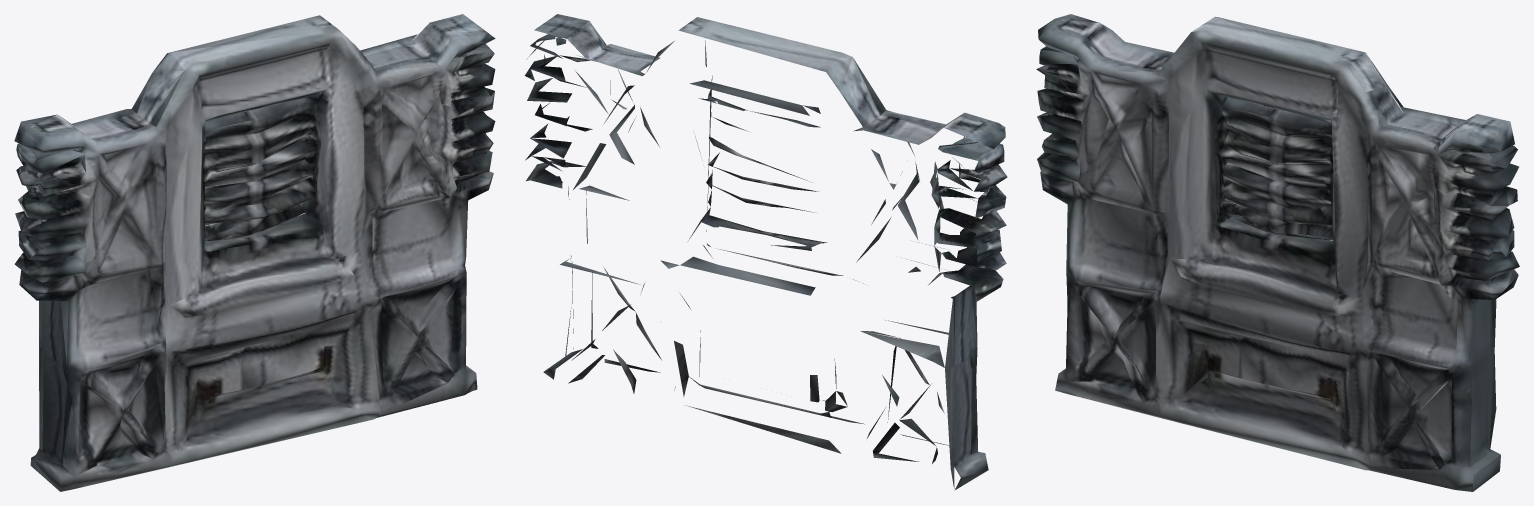
The model's file is hangar_wall_panel_b.glb.
The picture shows the model from 3 angles, left to right: view 1: azimuth 30°, elevation 25°; view 2: azimuth 150°, elevation 25°; view 3: azimuth 330°, elevation 25°; orthographic projection.
Parts seen in each view (by area): view 1: hangar_wall_panel_b; view 2: hangar_wall_panel_b; view 3: hangar_wall_panel_b.
Part boxes in pixels (x1,y1,x2,y2): hangar_wall_panel_b: (14, 14, 495, 491); hangar_wall_panel_b: (524, 14, 1007, 489); hangar_wall_panel_b: (1036, 14, 1519, 491).
Size of the model in its own units: 0.1008 by 0.0796 by 0.015.
Materials: 1 (1 with a texture image).
